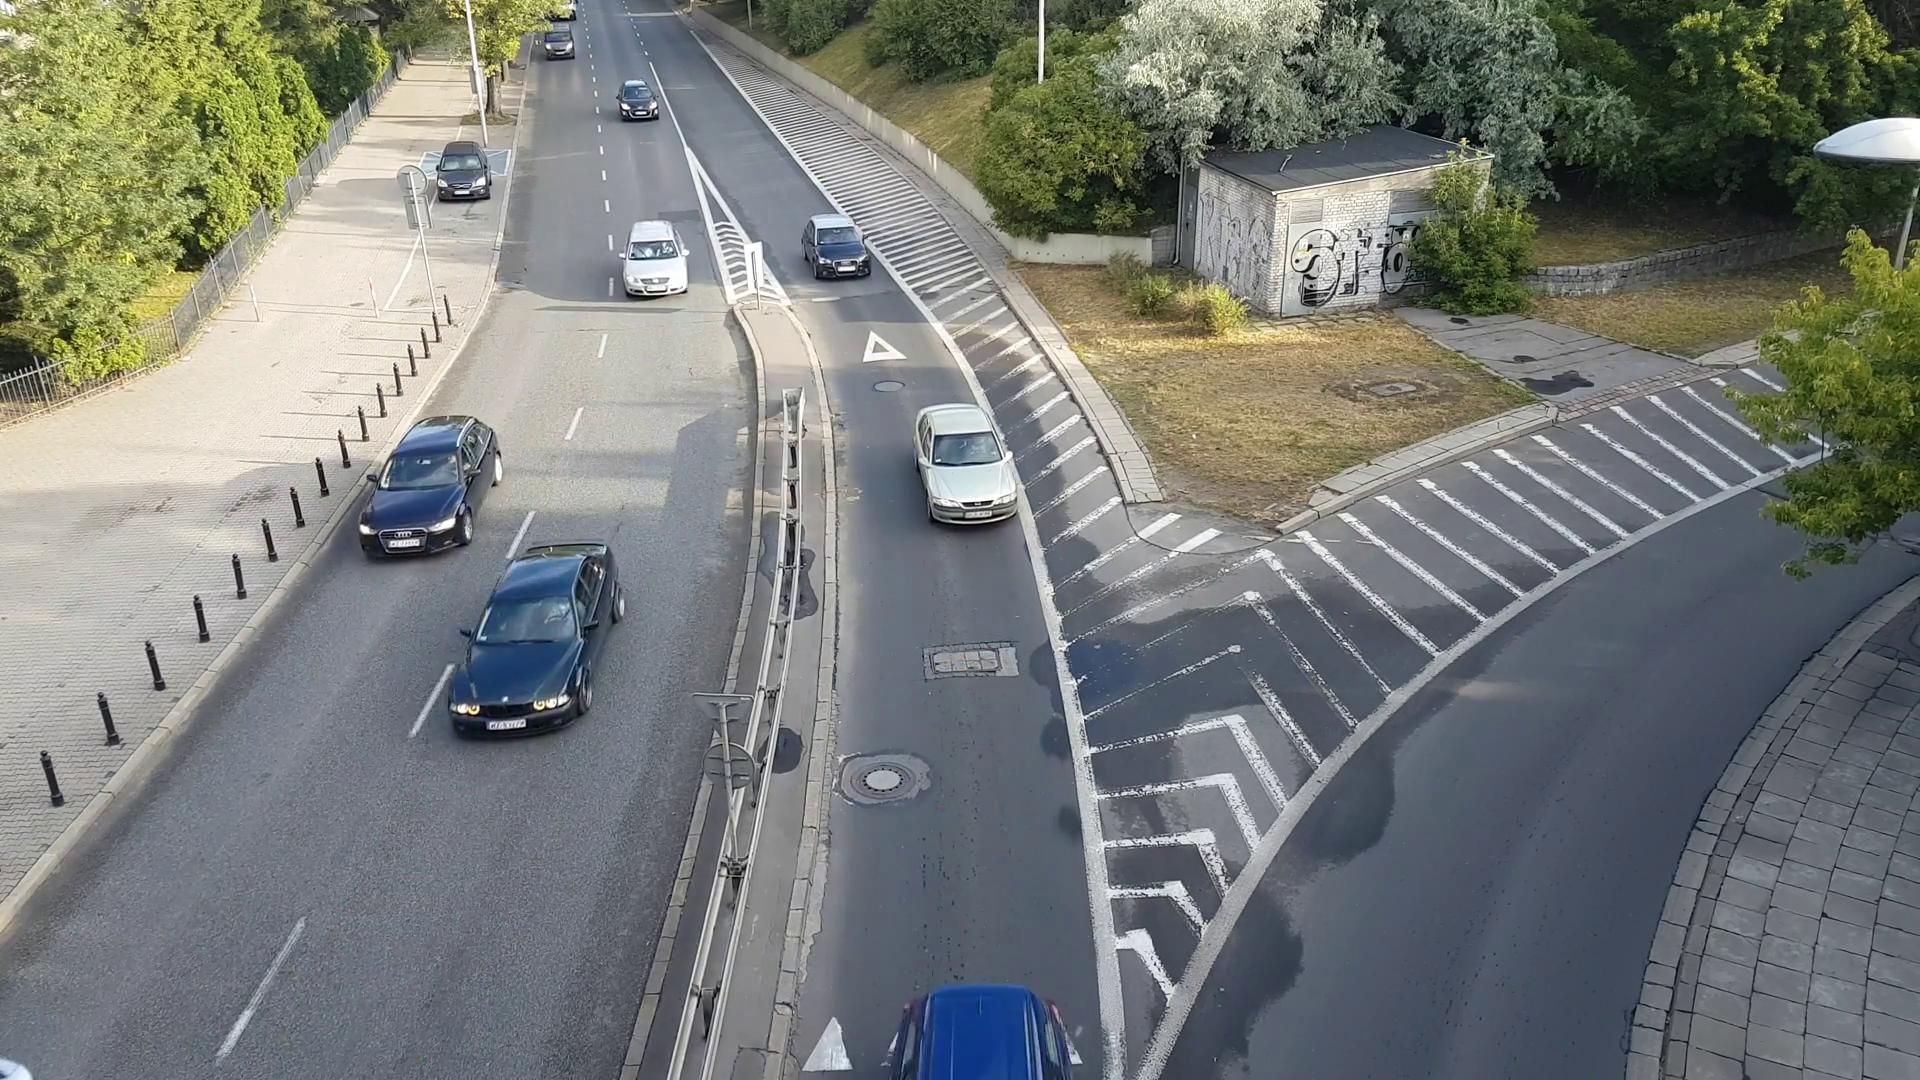car: (442, 534, 626, 735), (353, 414, 505, 555), (870, 985, 1080, 1079), (913, 392, 1018, 518), (620, 216, 692, 295), (800, 212, 876, 276), (433, 138, 495, 199), (618, 79, 659, 121)
